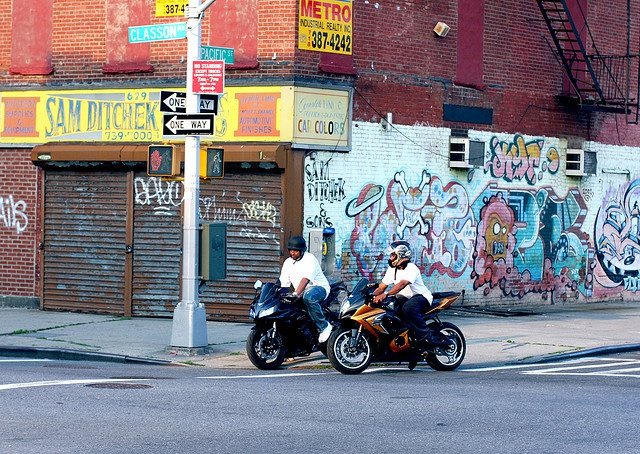non-vehicle: (326, 277, 466, 373), (246, 279, 350, 369)
